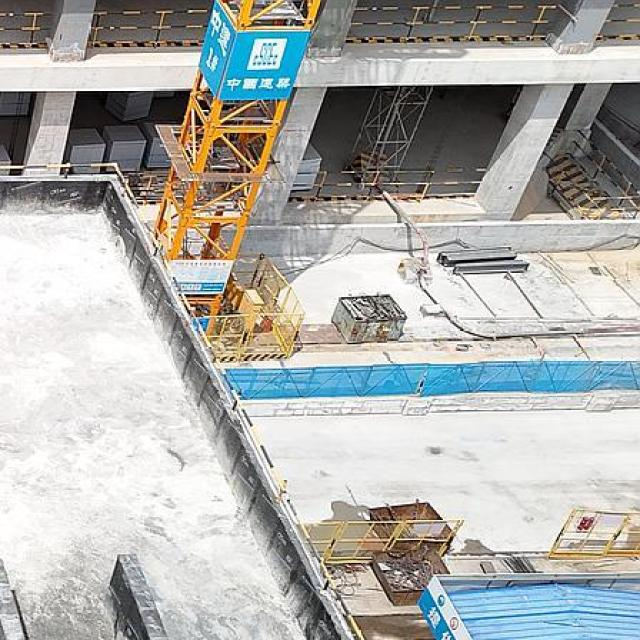edge_guardrail: (0, 161, 367, 640), (347, 5, 557, 44), (289, 168, 487, 202), (567, 128, 640, 218), (88, 10, 208, 50), (0, 11, 61, 49), (598, 3, 640, 40), (126, 174, 170, 206)
